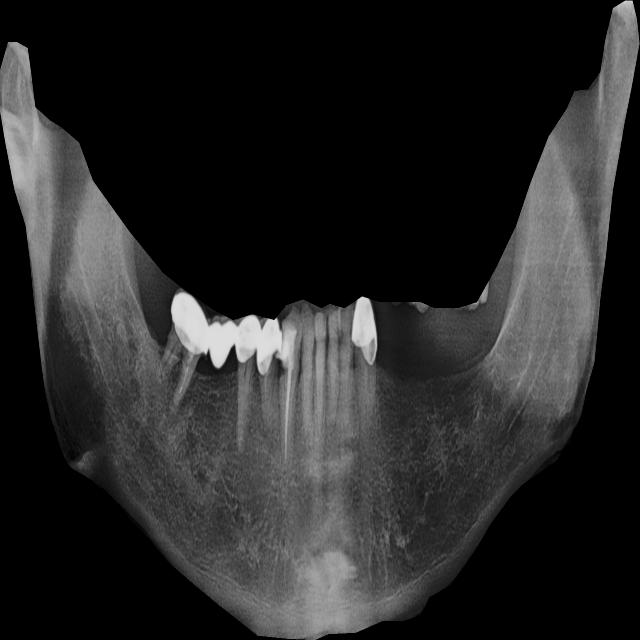mandibula: (0, 0, 640, 640)
